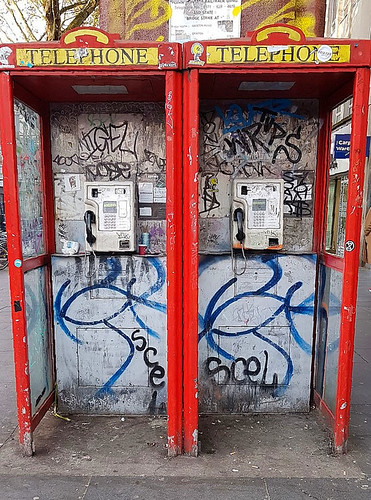graffiti: (45, 257, 163, 416), (200, 253, 318, 412), (202, 96, 318, 183), (44, 96, 160, 183)
phone booth: (189, 36, 369, 450), (1, 41, 180, 455)
